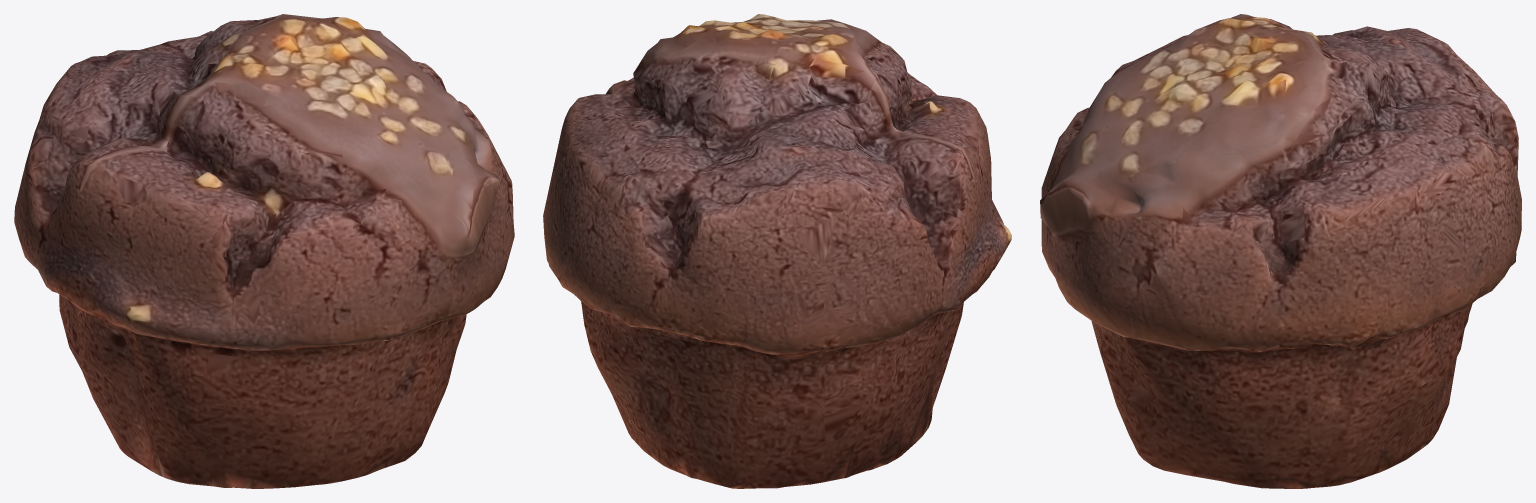
Rendered from muffin_3102.obj.
The picture shows the model from 3 angles, left to right: view 1: azimuth 30°, elevation 25°; view 2: azimuth 150°, elevation 25°; view 3: azimuth 270°, elevation 25°; orthographic projection. The views are drawn at different scales.
Bounding box in the file's own units: 14.27 × 12.99 × 14.37.
Materials: 1 (1 with a texture image).
